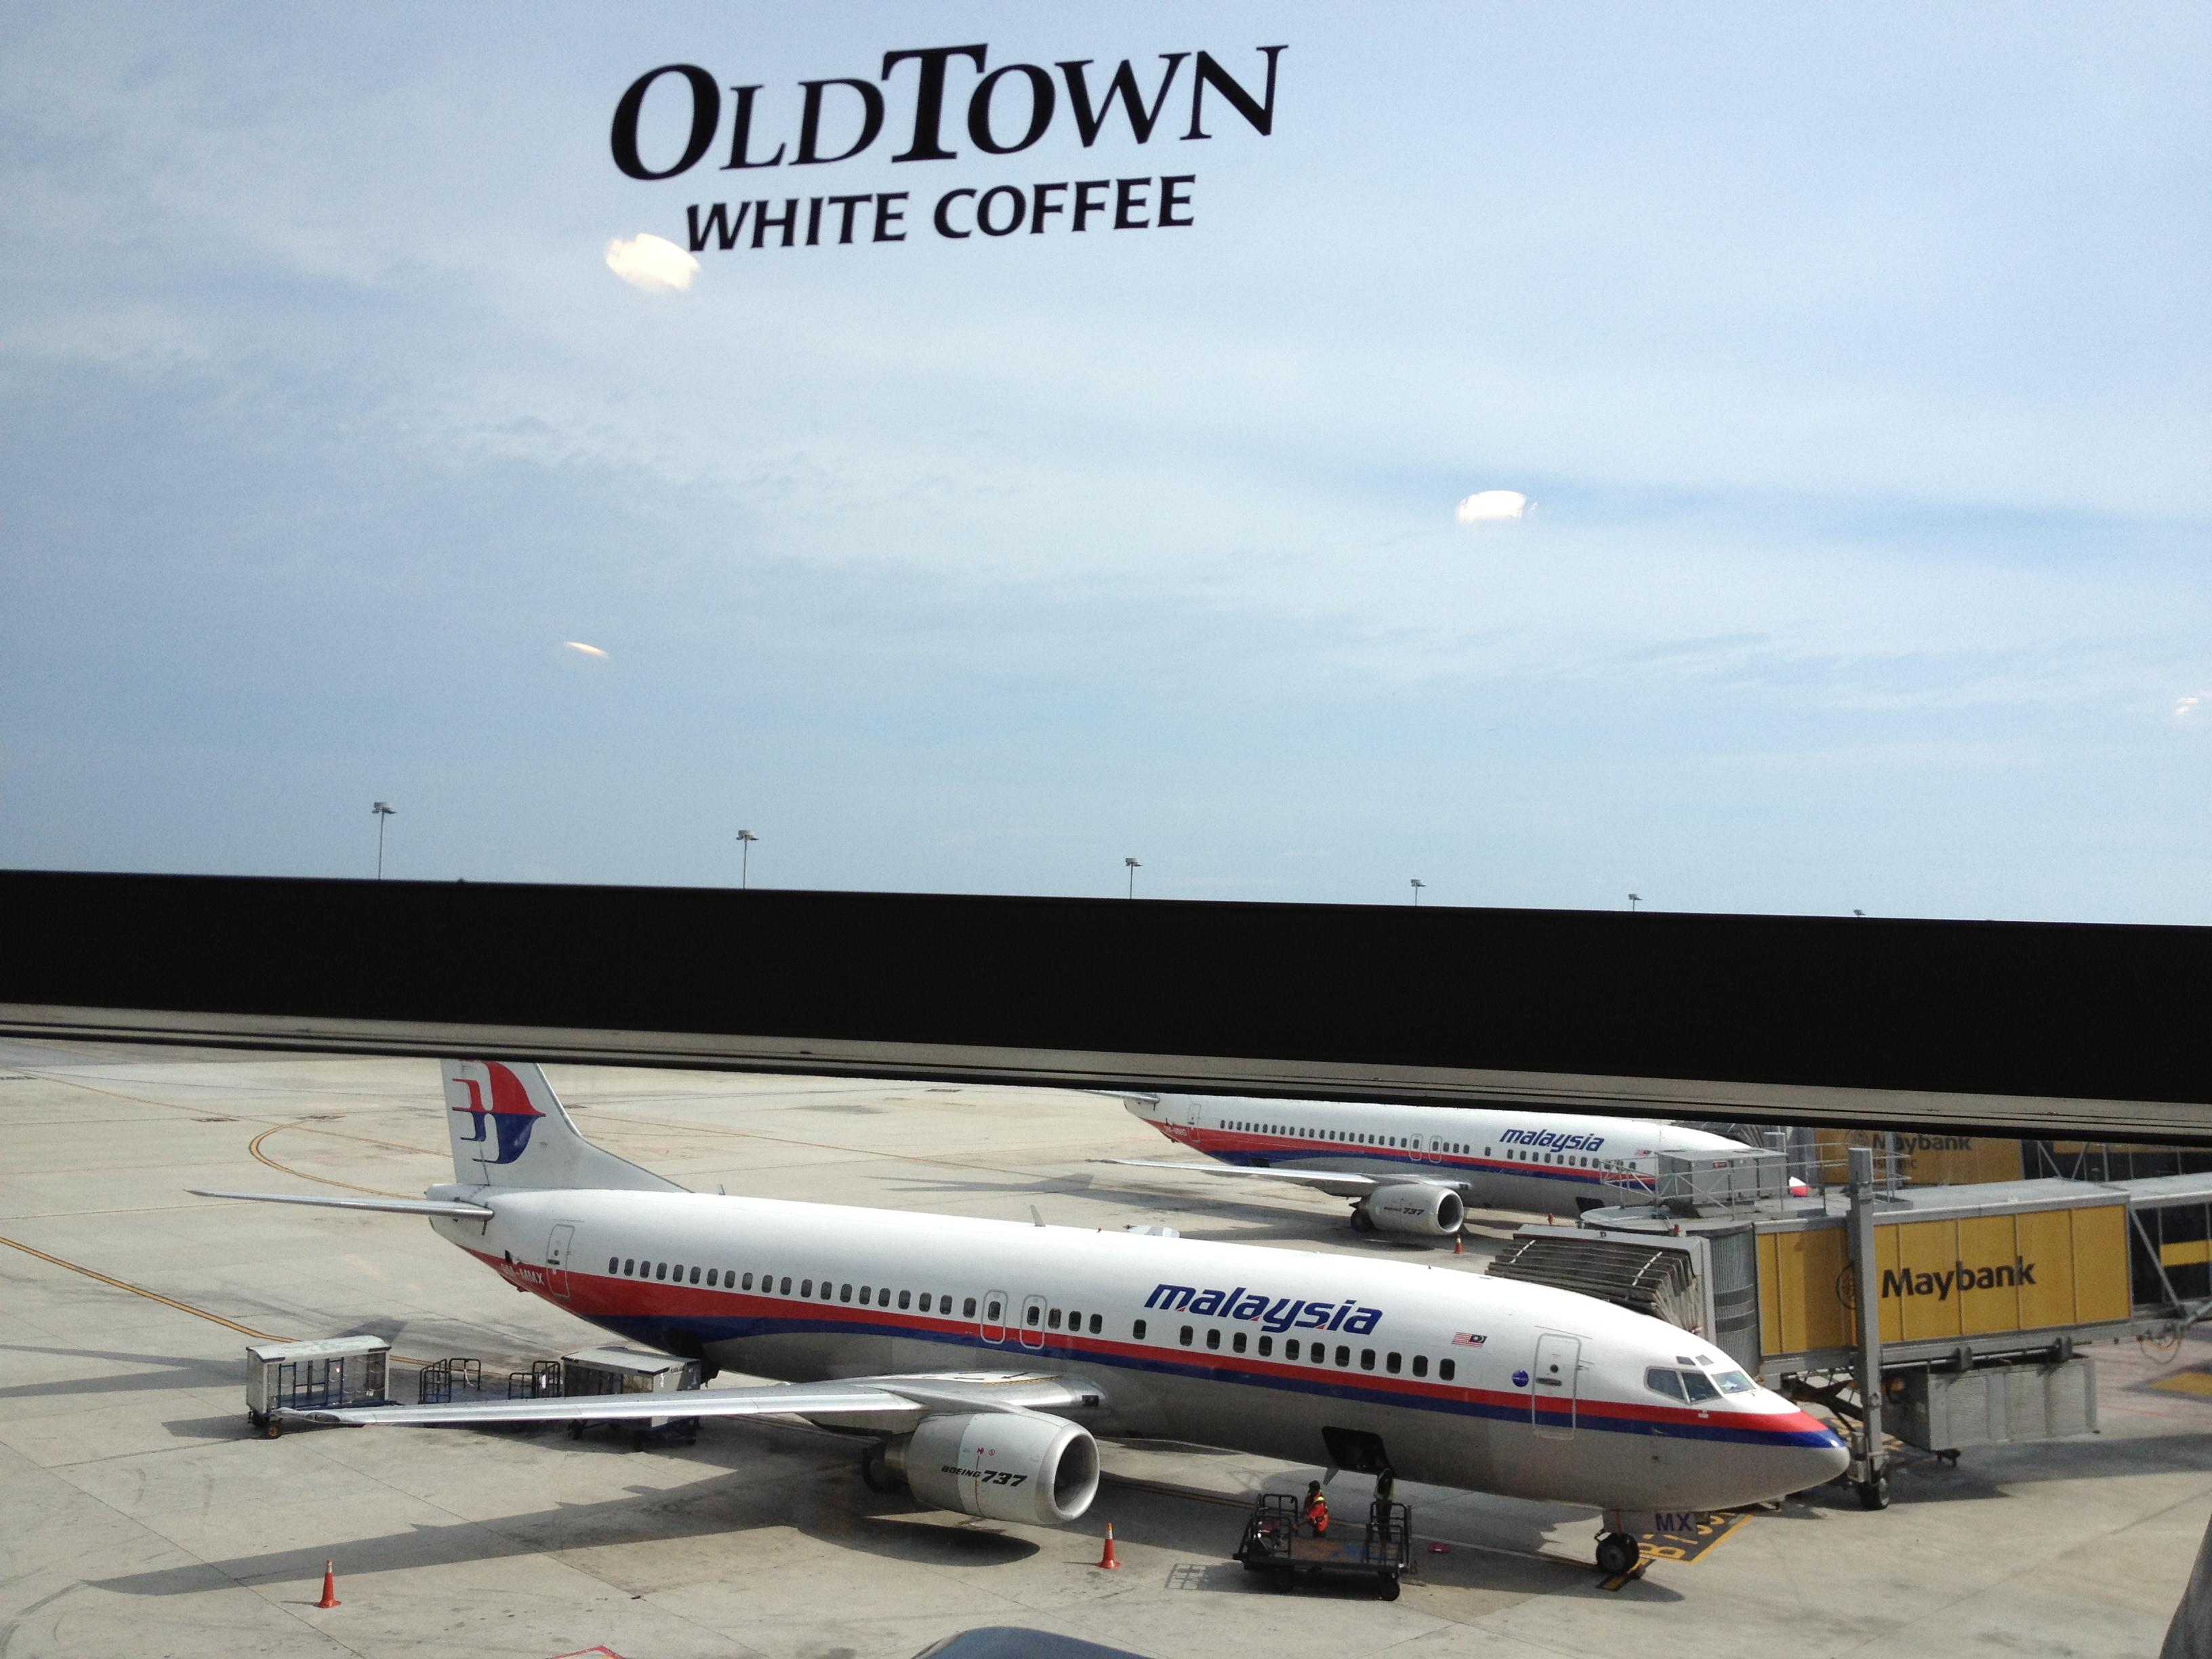airplane: (169, 1042, 1865, 1575)
